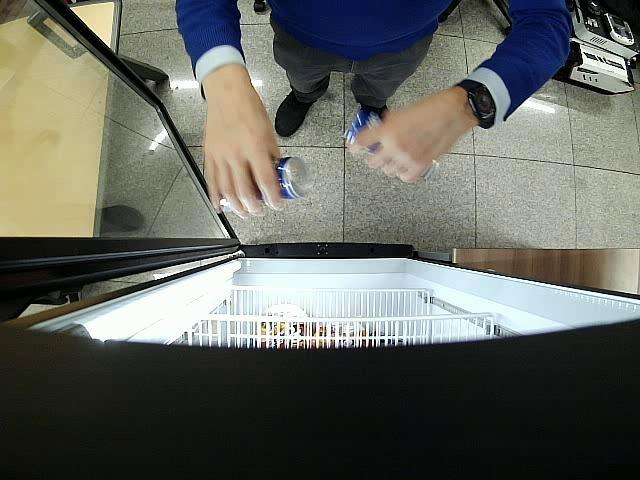16_hot6: (342, 107, 439, 179), (272, 156, 310, 200)
